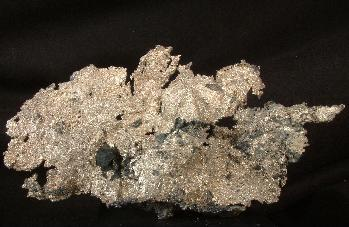silver: (4, 46, 344, 210)
